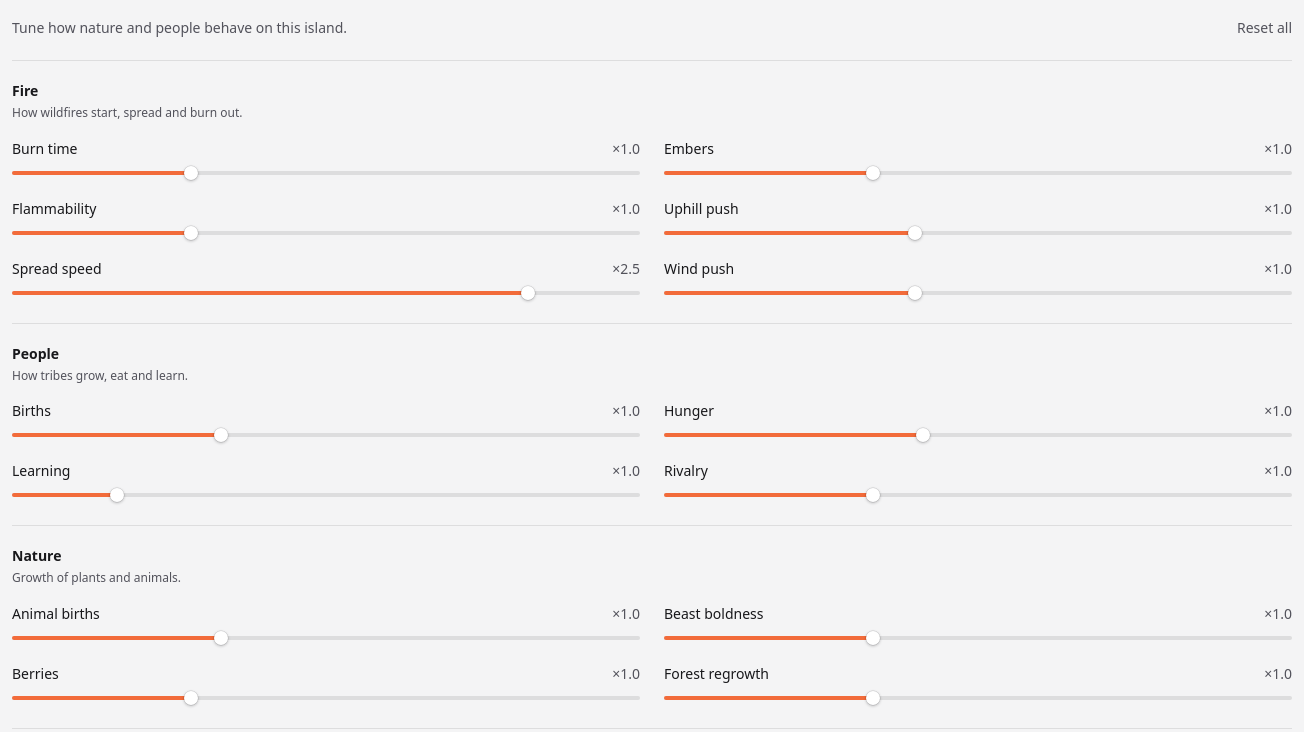
Scenario: world rules section in a running game › puts every rule back with one button
Click the button "Reset all" at {"x": 1258, "y": 28}, box [1225, 12, 1292, 44]
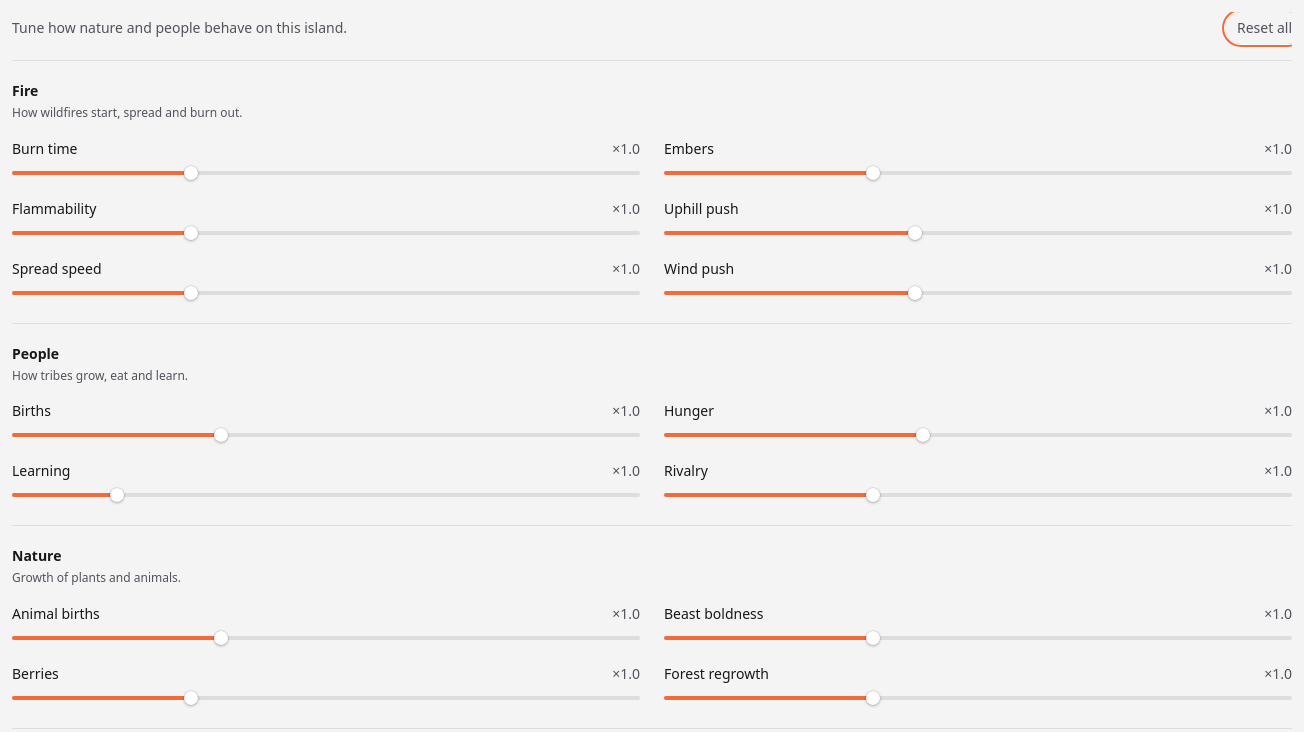
Result: the slider named "Spread speed" holds "1" at [184, 286, 198, 300]
